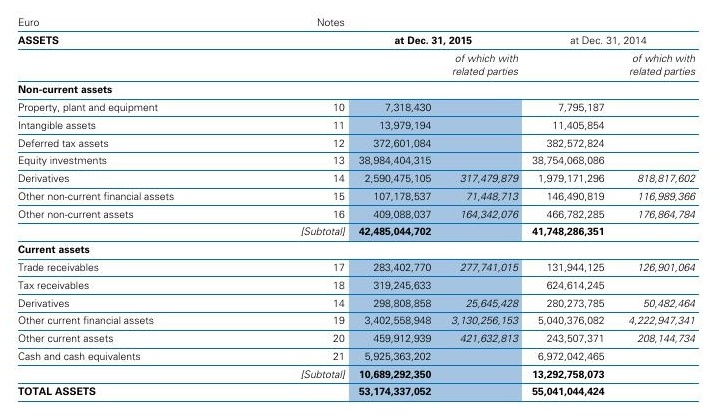table: (0, 0, 720, 419)
